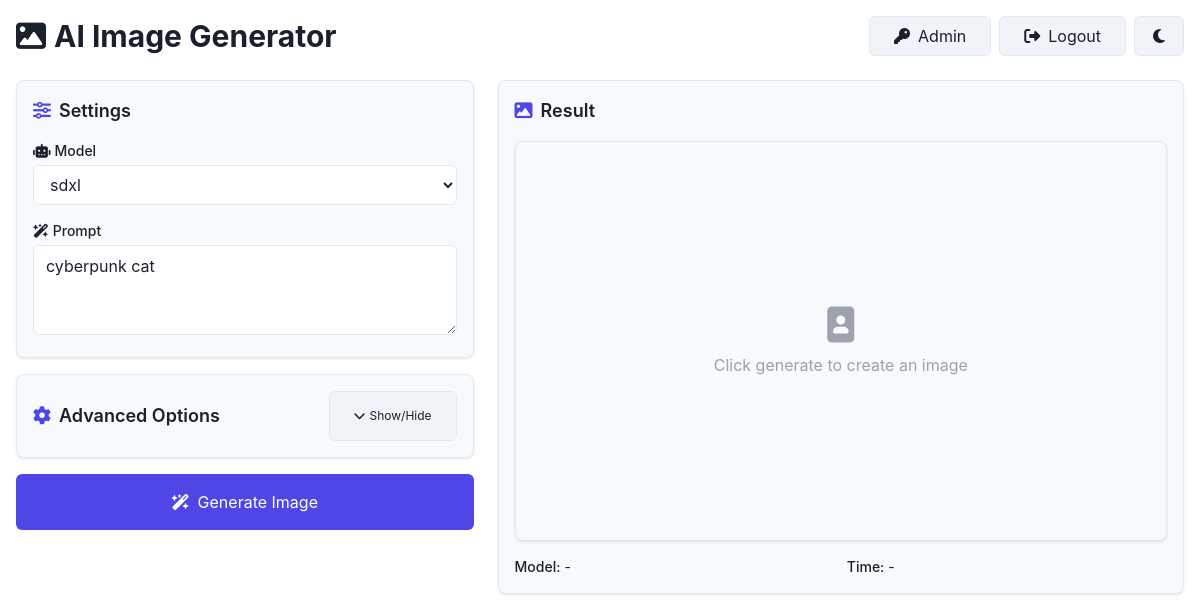
Test: the generator › shows the server's message when the generation fails
Click the button with id "submitButton" at (245, 502), box [16,474,474,530]
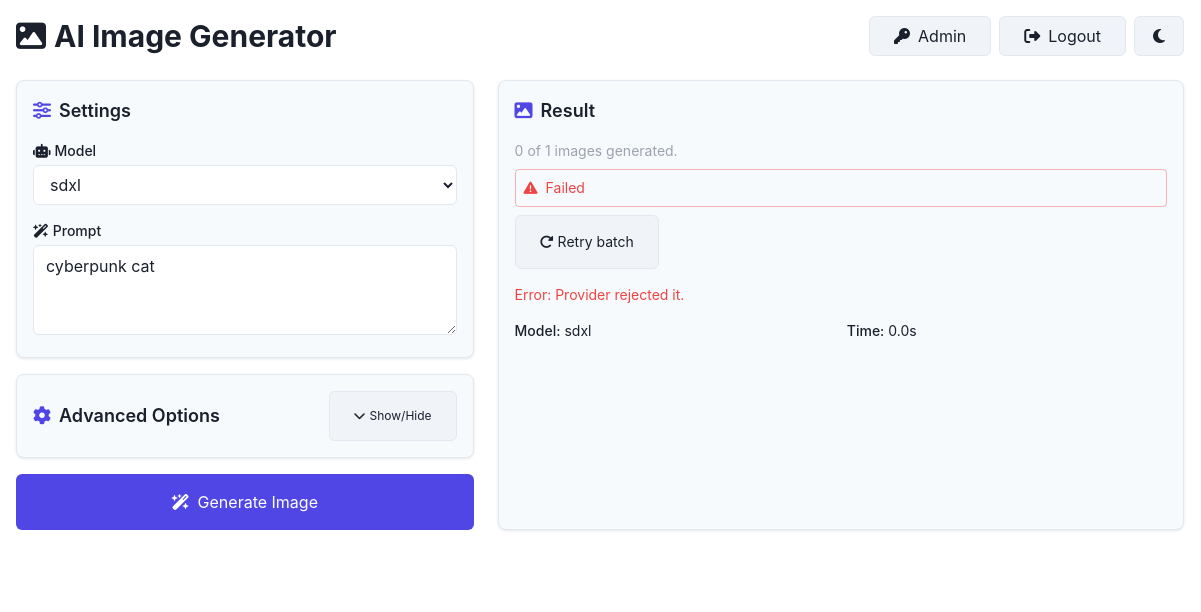
Expected: the text "Error: Provider rejected it." is shown, [515,286,684,303]
